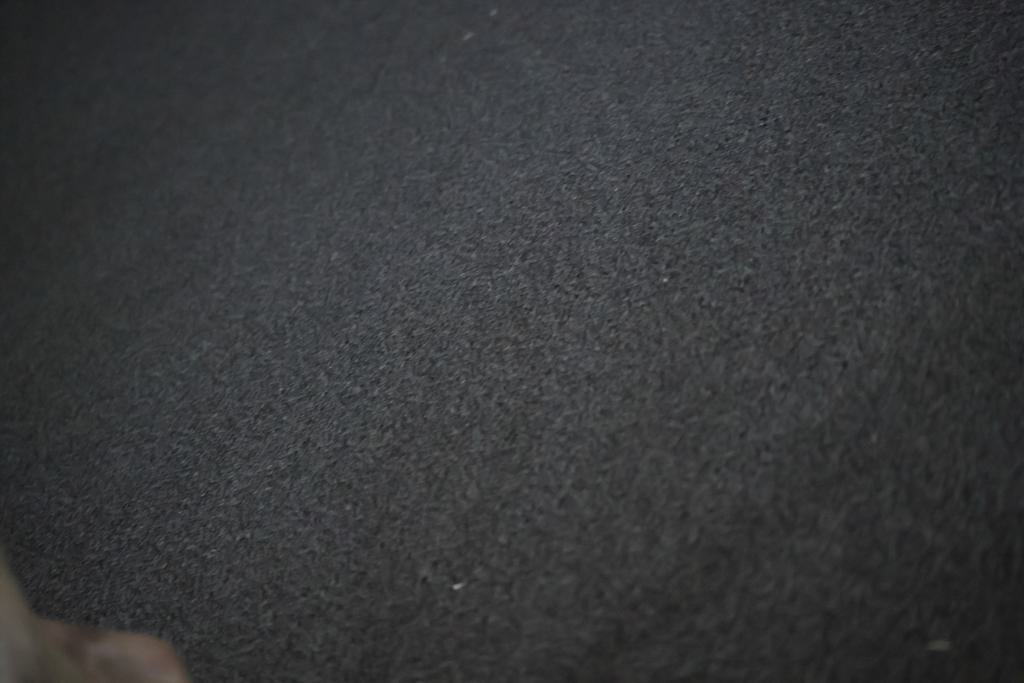Dog: (0, 548, 210, 683)
